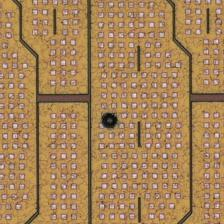PARTICLE: (98, 111, 121, 133)
